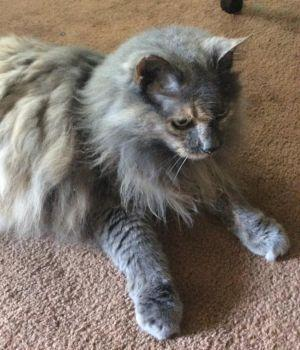persian: (111, 25, 260, 180)
